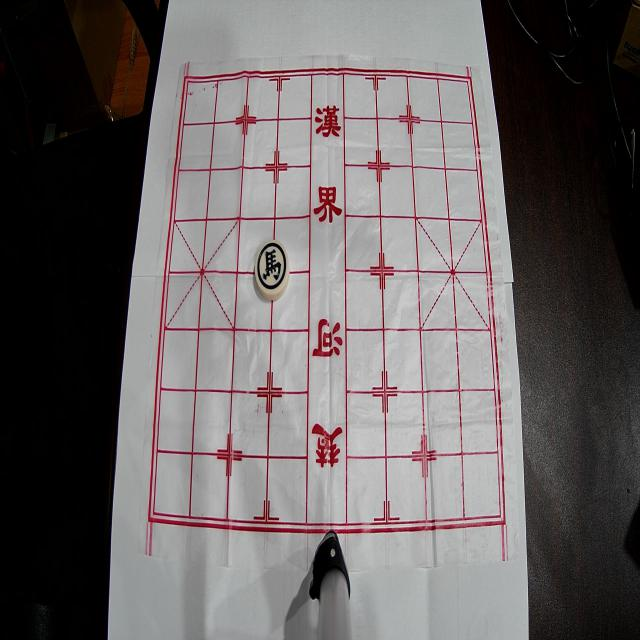black-horse: (254, 240, 290, 300)
